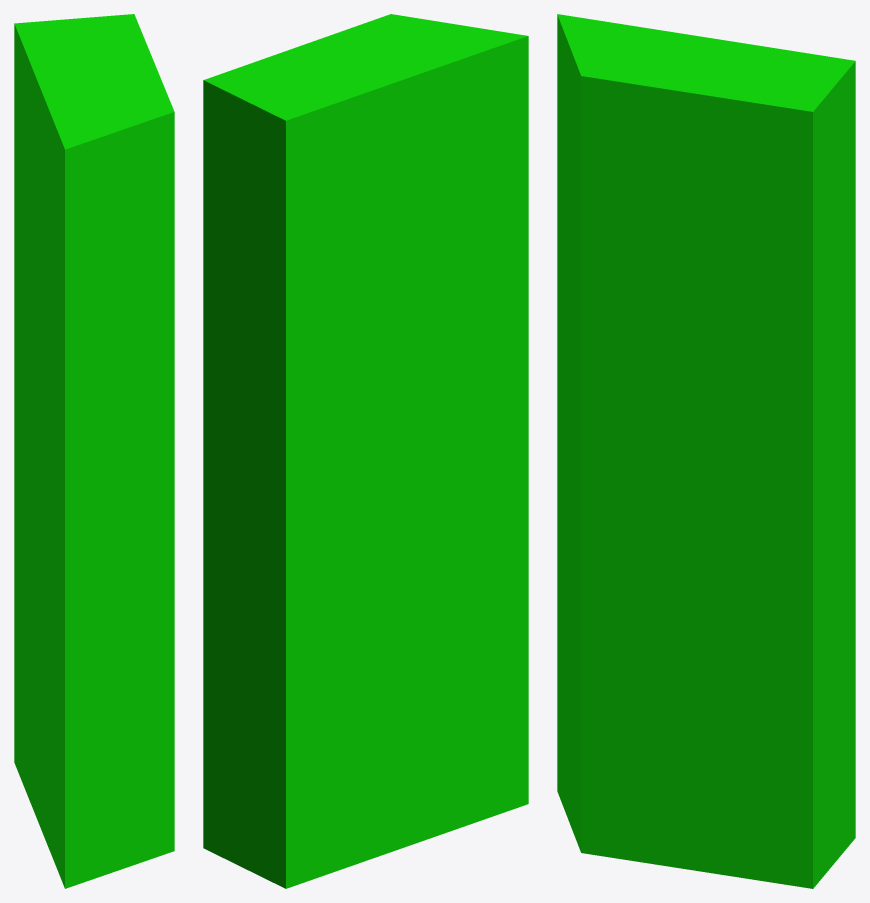
3 renders of one model, left to right at view 1: azimuth 30°, elevation 25°; view 2: azimuth 150°, elevation 25°; view 3: azimuth 270°, elevation 25°, orthographic. The views are drawn at different scales.
Parts seen in each view (by area): view 1: Plane.017; view 2: Plane.017; view 3: Plane.017.
Part boxes in pixels (box(x1,y1,x2,y2)): Plane.017: box(14, 14, 174, 888); Plane.017: box(203, 14, 528, 888); Plane.017: box(557, 14, 855, 888).
Bounding box in the file's own units: 768 × 2839 × 989.
